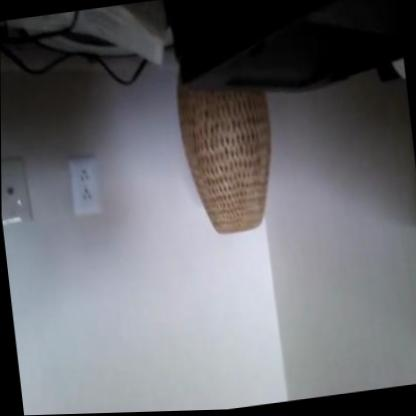OUTLET: (66, 156, 103, 219)
